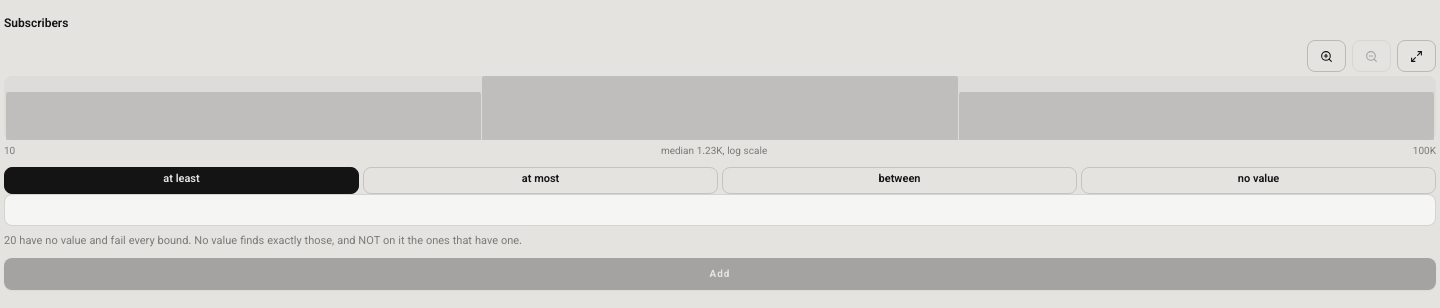
a read source › starts empty even with its bars, and shows the caller's count
Expected: the button with test id "number-bound-submit" reads "Add", top-left (4, 258), bottom-right (1436, 290)
Step 1. Type "500" into the number field named "Value" → (720, 210), box top-left (4, 194), bottom-right (1436, 226)
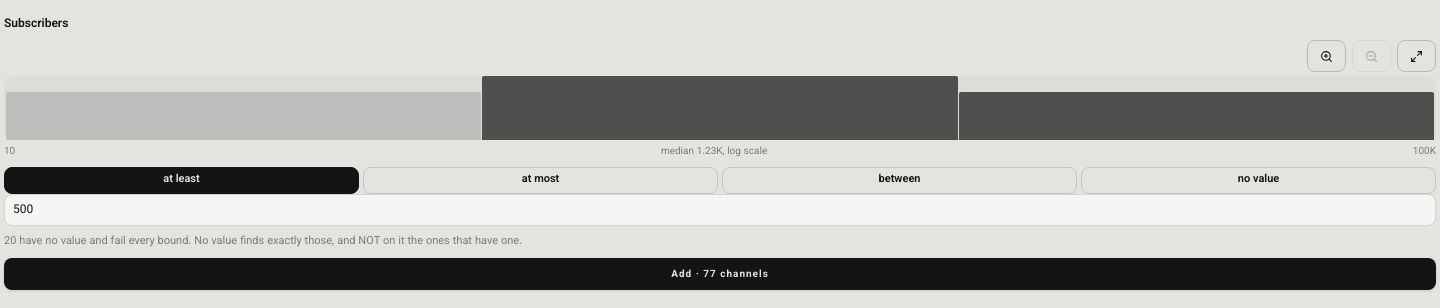
Result: the button with test id "number-bound-submit" reads "Add · 77 channels" at top-left (4, 258), bottom-right (1436, 290)
